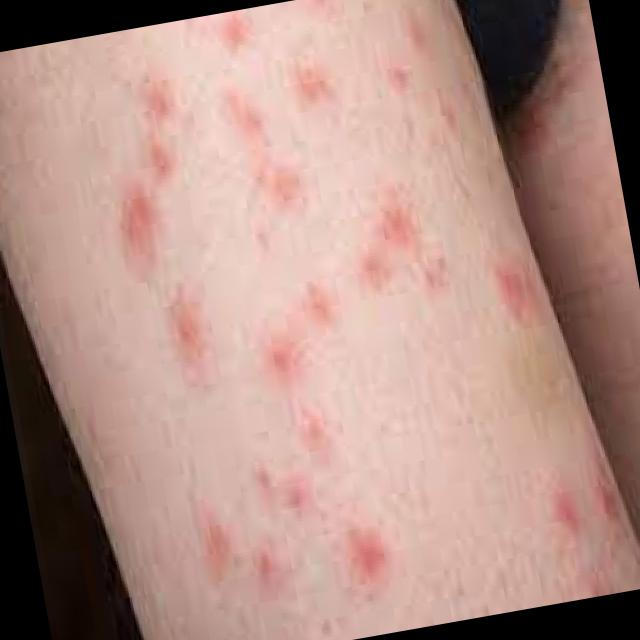kan emici bocekler: (63, 1, 535, 632), (494, 266, 584, 570), (583, 476, 623, 541)
